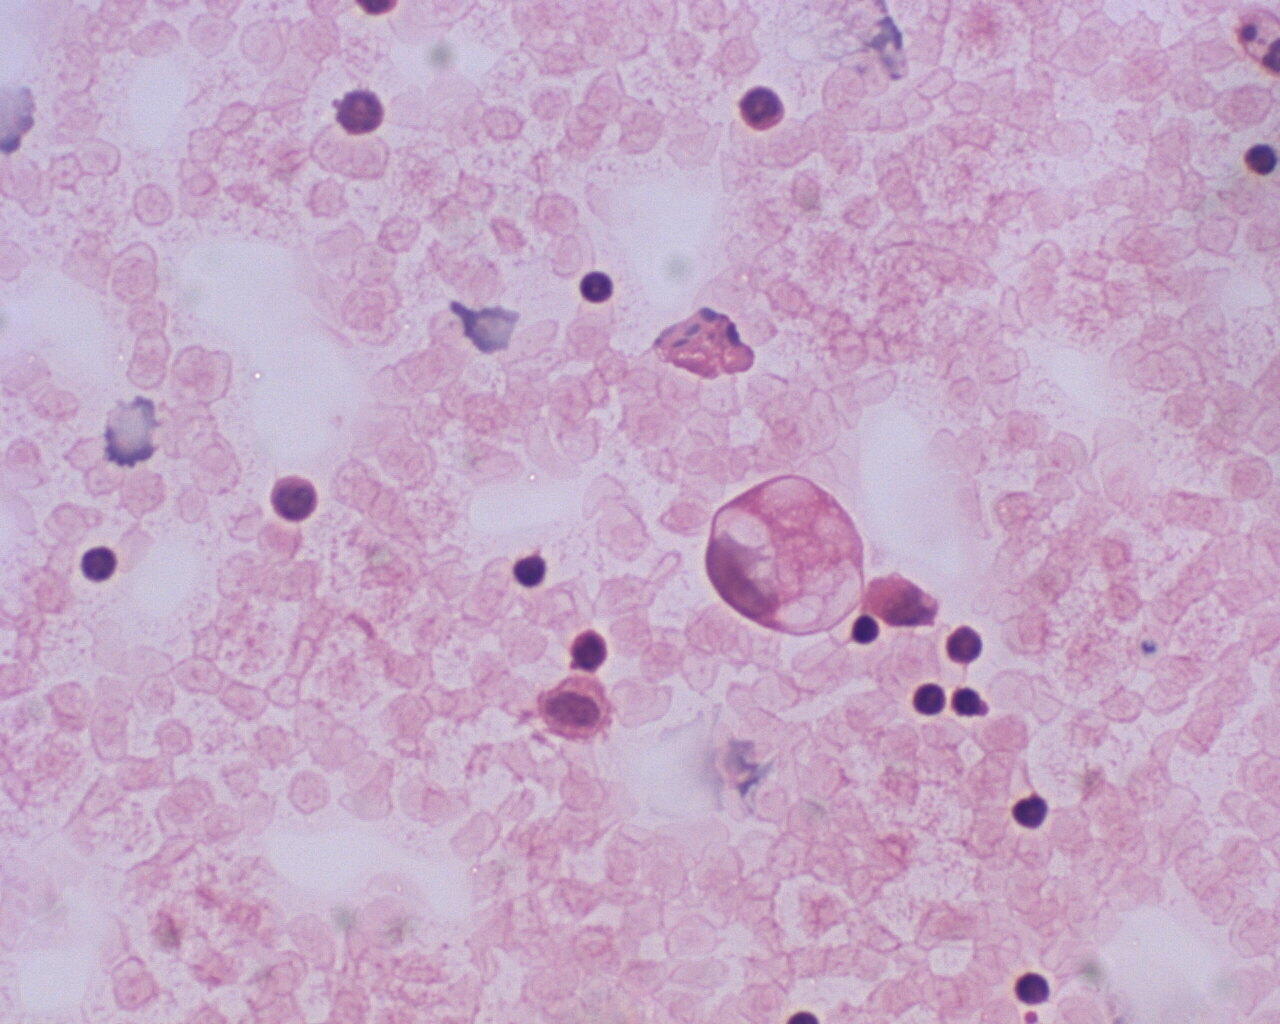ab: (704, 463, 867, 638)
lymph: (1007, 784, 1055, 834), (908, 672, 955, 720), (571, 263, 619, 308), (78, 542, 124, 586)
